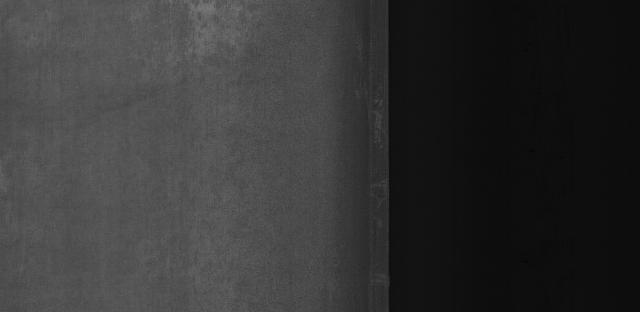silk_spot: (162, 184, 263, 284), (161, 20, 256, 86), (169, 122, 261, 157)
